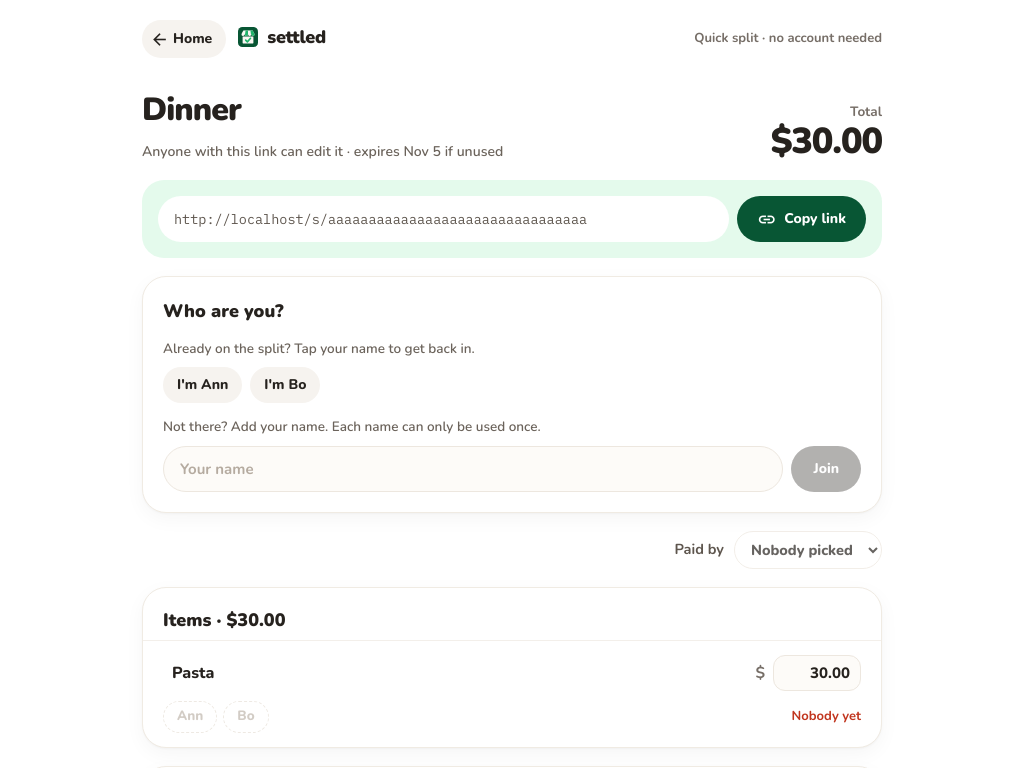
Test: Quick split page (no account) › lost your session? "not you?" then tap your own name to get back in, with a fresh key
This screenshot has width=1024, height=768.
Click the button "I'm Ann" at [203, 385], box [163,367,242,403]
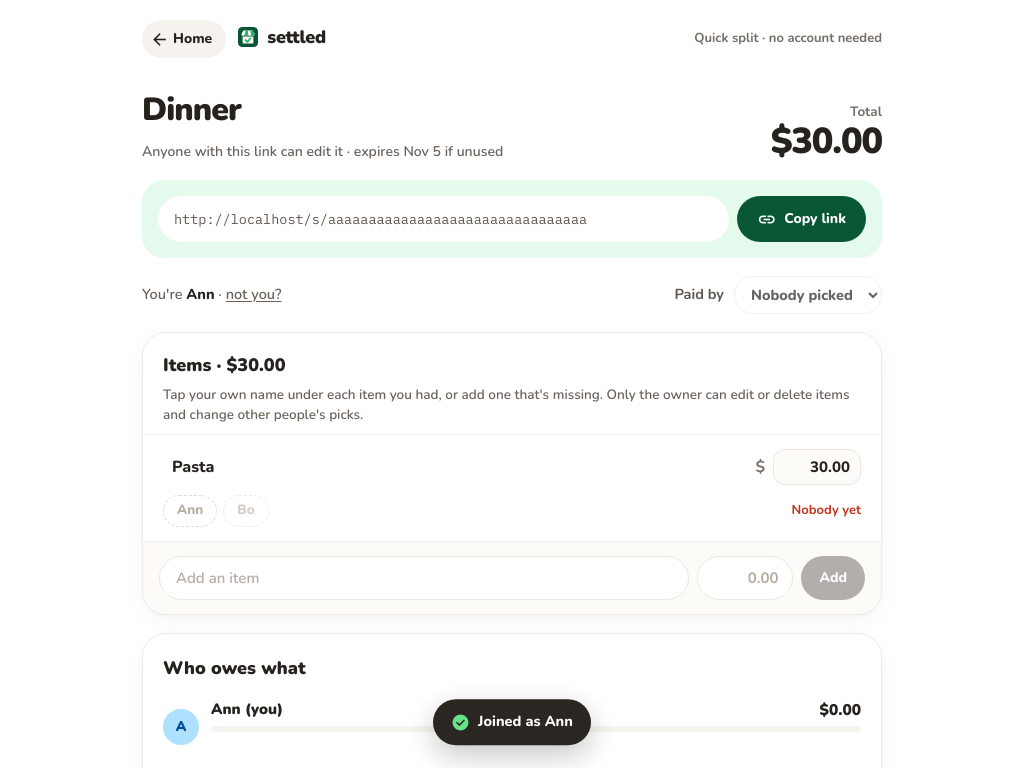
Result: the text "Ann" is shown at [186,284,214,304]
Click the button with aria-label "Ann had Pasta" at [190, 510], box [163,494,217,526]
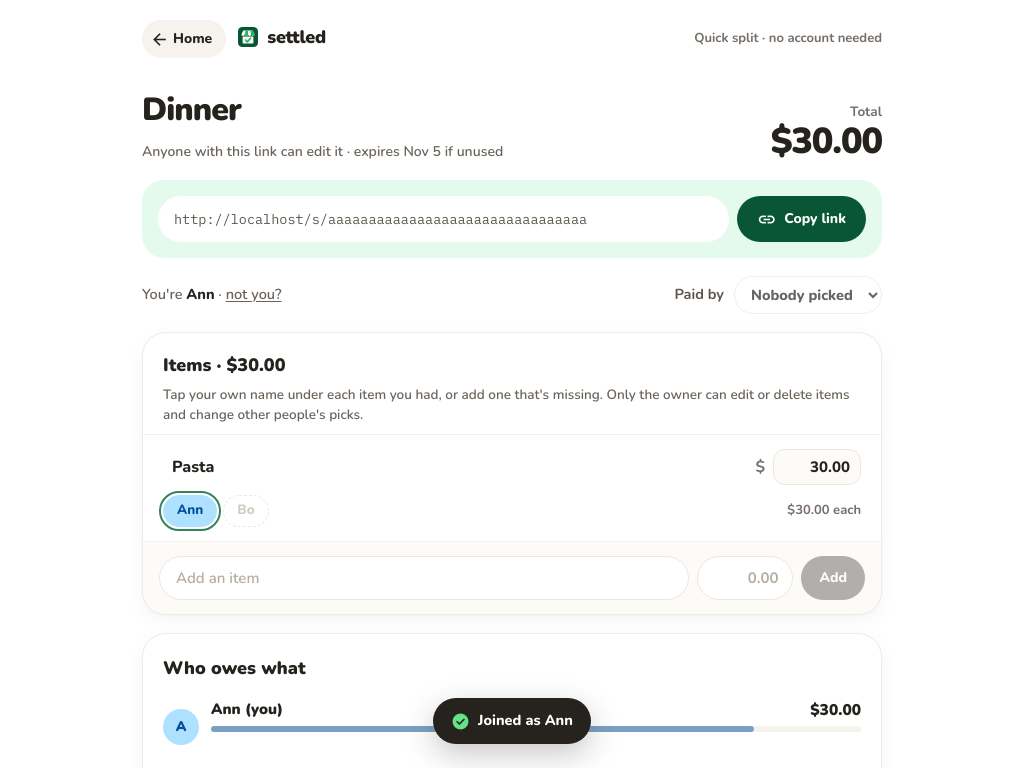
Click the button "not you?" at [254, 295], box [226,284,281,306]
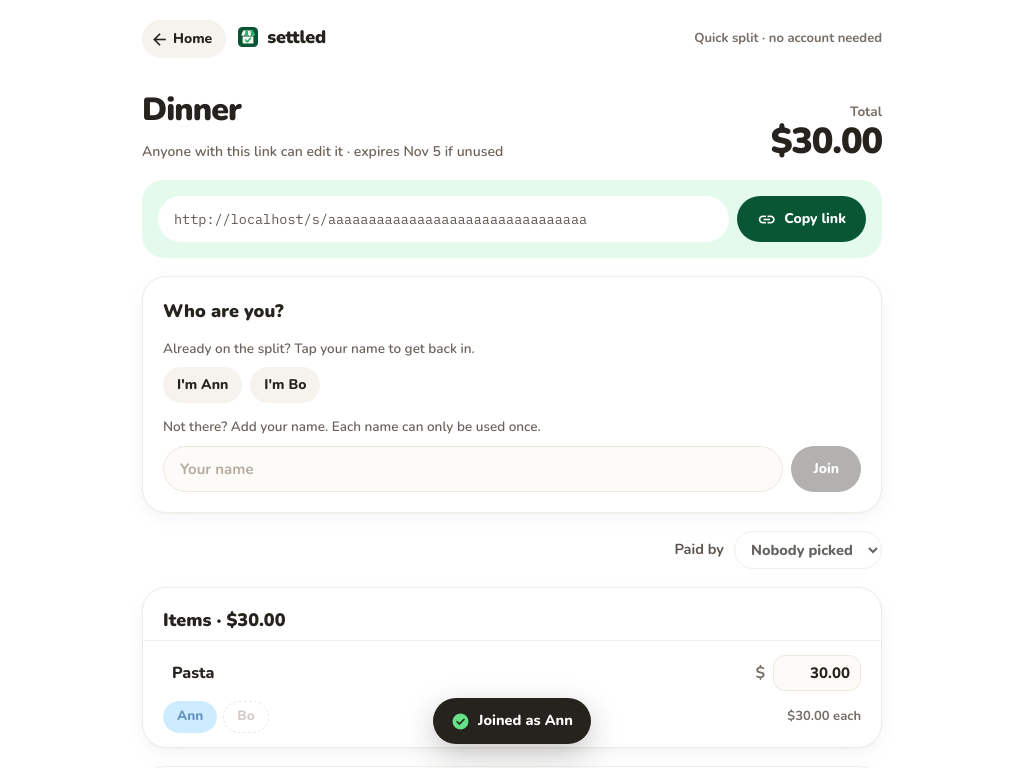
Result: the button "I'm Bo" is shown at [250,367,320,403]
